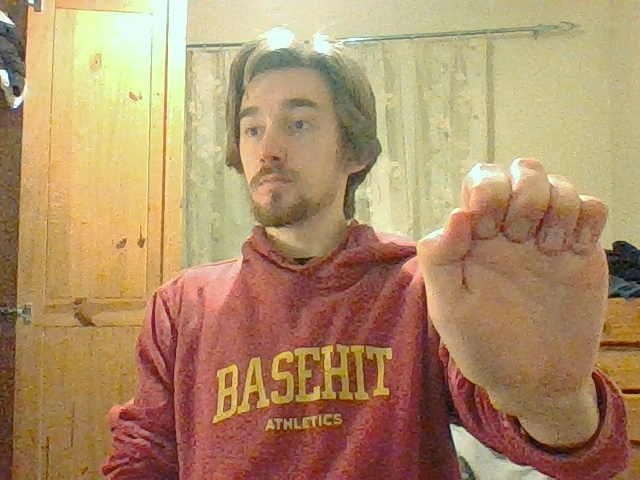your: (415, 157, 610, 378)
